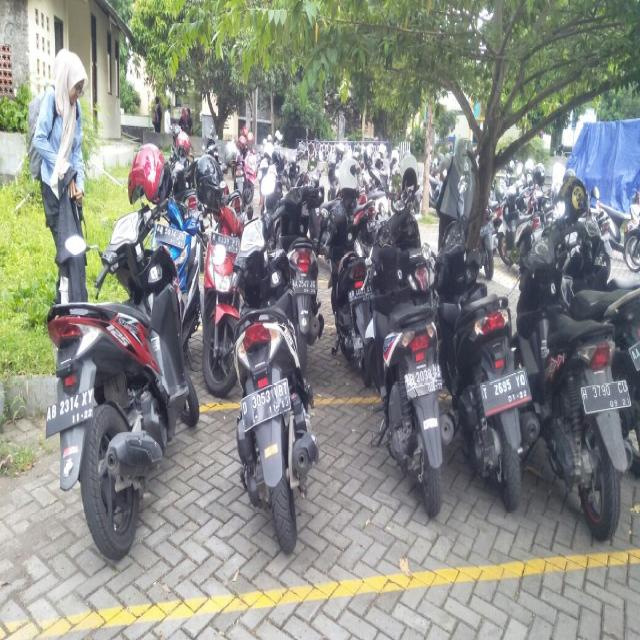plate: (478, 366, 531, 414), (240, 378, 290, 423), (45, 384, 94, 428), (578, 376, 630, 416), (404, 361, 442, 397), (154, 221, 186, 248), (209, 231, 240, 254), (289, 276, 317, 296)
